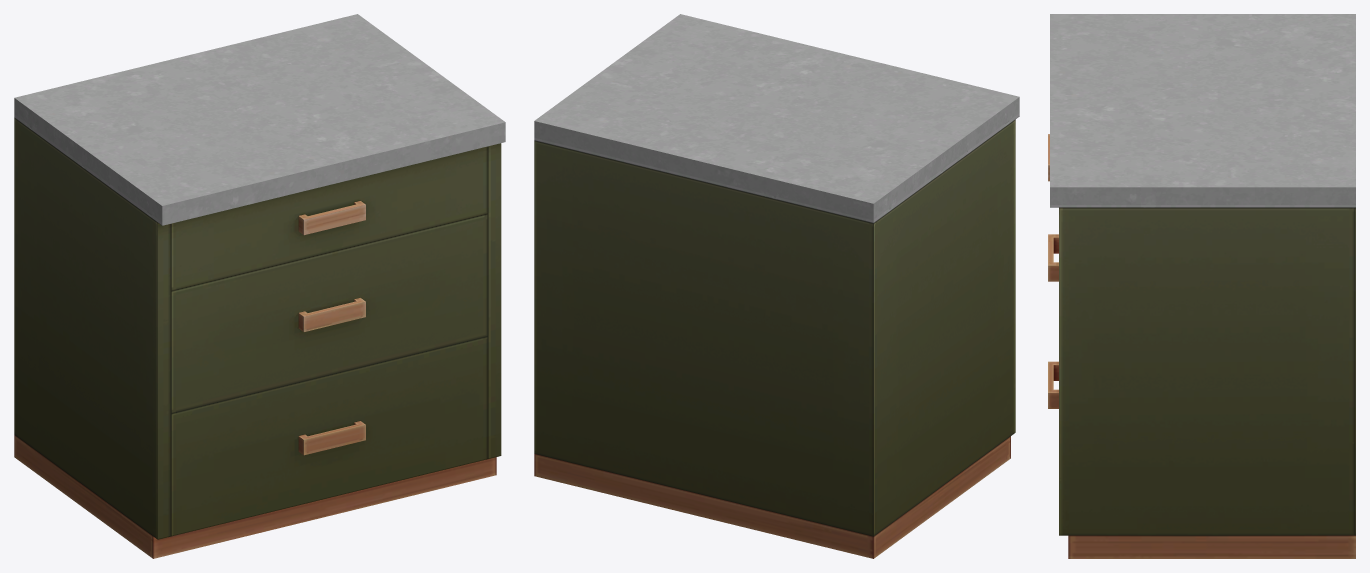
The model's file is inferiorFrontal.fbx.
3 renders of one model, left to right at view 1: azimuth 30°, elevation 25°; view 2: azimuth 150°, elevation 25°; view 3: azimuth 270°, elevation 25°, orthographic. The views are drawn at different scales.
Visible parts, largest first — view 1: s4studio_mesh_1; view 2: s4studio_mesh_1; view 3: s4studio_mesh_1.
Part boxes in pixels (x1,y1,x2,y2): s4studio_mesh_1: (14, 14, 505, 558); s4studio_mesh_1: (534, 14, 1019, 558); s4studio_mesh_1: (1048, 14, 1355, 558).
Size of the model in its own units: 100 by 100 by 75.03.
Materials: 2 (2 with a texture image).
